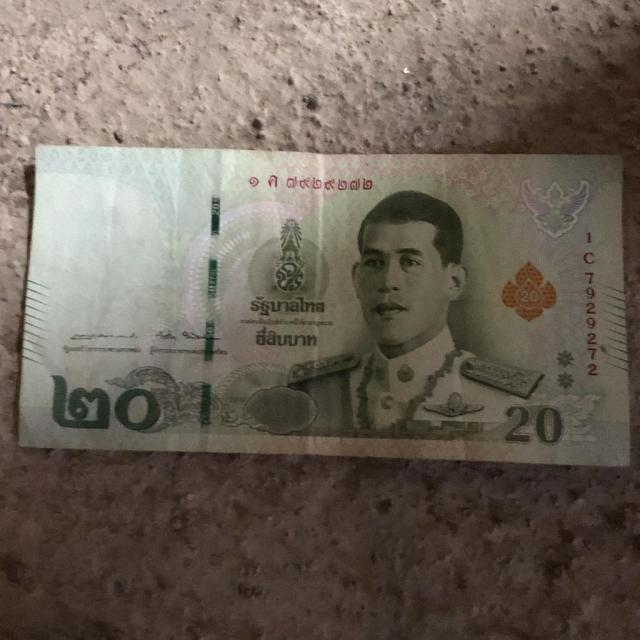THAI20: (19, 146, 629, 465)
